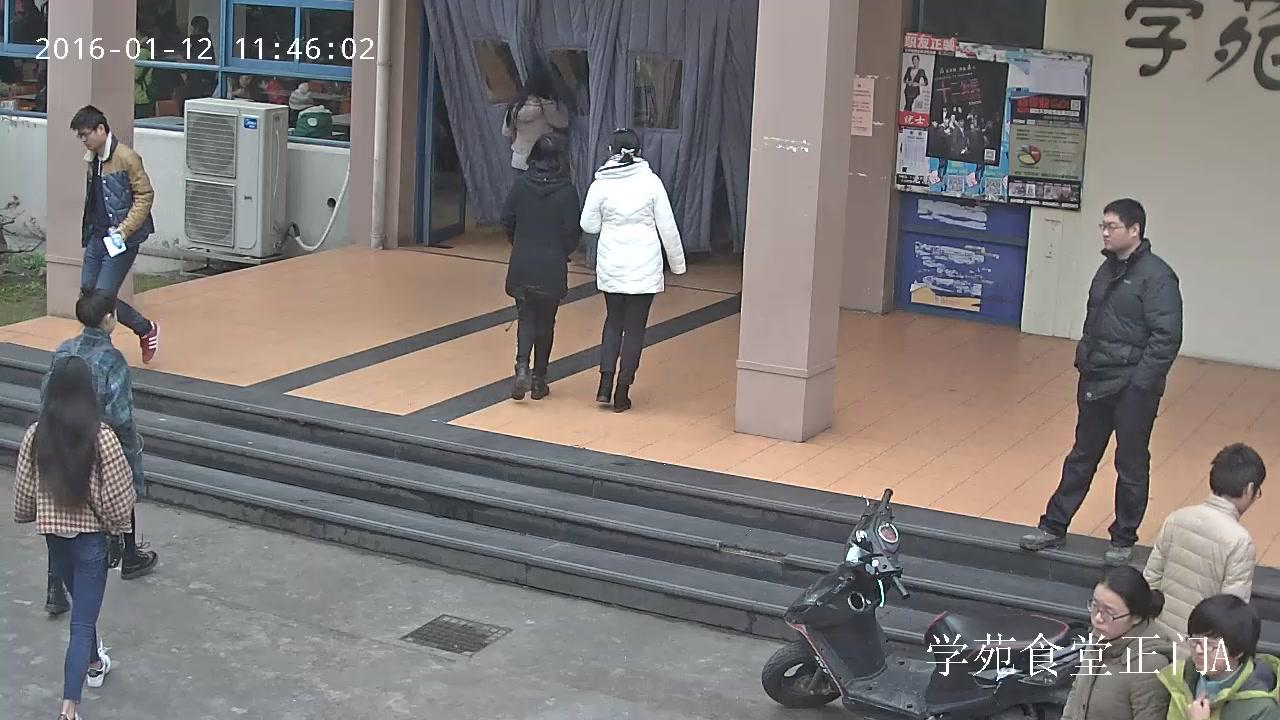person: (1018, 198, 1184, 570), (12, 355, 138, 720), (39, 286, 160, 614), (579, 125, 687, 412), (1140, 442, 1266, 647), (69, 104, 161, 364), (497, 132, 582, 398), (1058, 564, 1189, 720), (1154, 593, 1280, 720), (500, 70, 568, 188), (133, 28, 179, 119), (180, 14, 216, 95), (287, 82, 332, 138), (212, 69, 267, 107), (903, 56, 928, 112)
